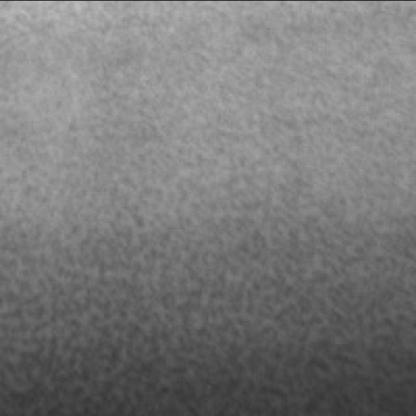pitted_surface: (4, 164, 408, 408)
